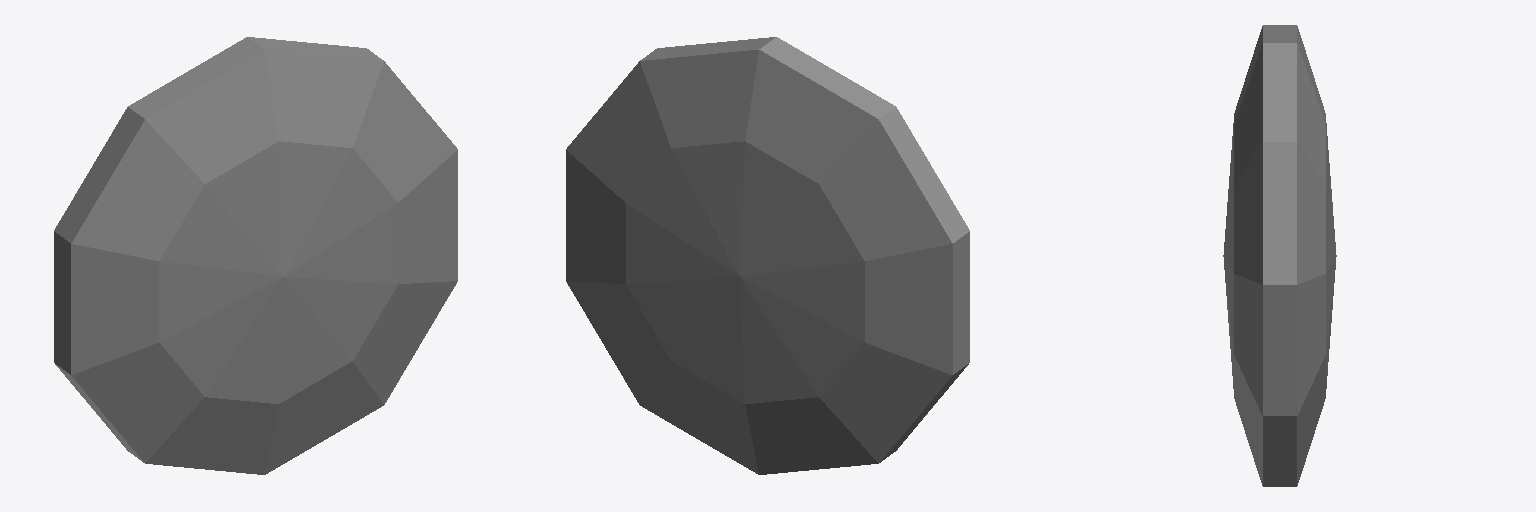
File: galleta.obj
The picture shows the model from 3 angles: view 1: azimuth 30°, elevation 25°; view 2: azimuth 150°, elevation 25°; view 3: azimuth 270°, elevation 25°; orthographic projection.
Visible parts, largest first — view 1: Sphere001; view 2: Sphere001; view 3: Sphere001.
Boxes of the visible parts, <box> form: Sphere001: <box>54,37,457,474</box>; Sphere001: <box>566,37,969,474</box>; Sphere001: <box>1223,25,1336,486</box>.
Bounding box in the file's own units: 24.06 × 25.3 × 6.09.